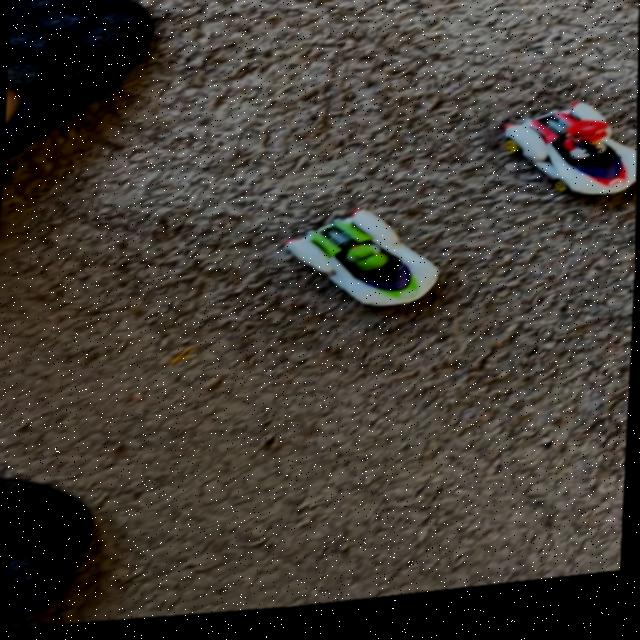mario: (492, 97, 638, 228)
yoshi: (270, 195, 458, 336)
